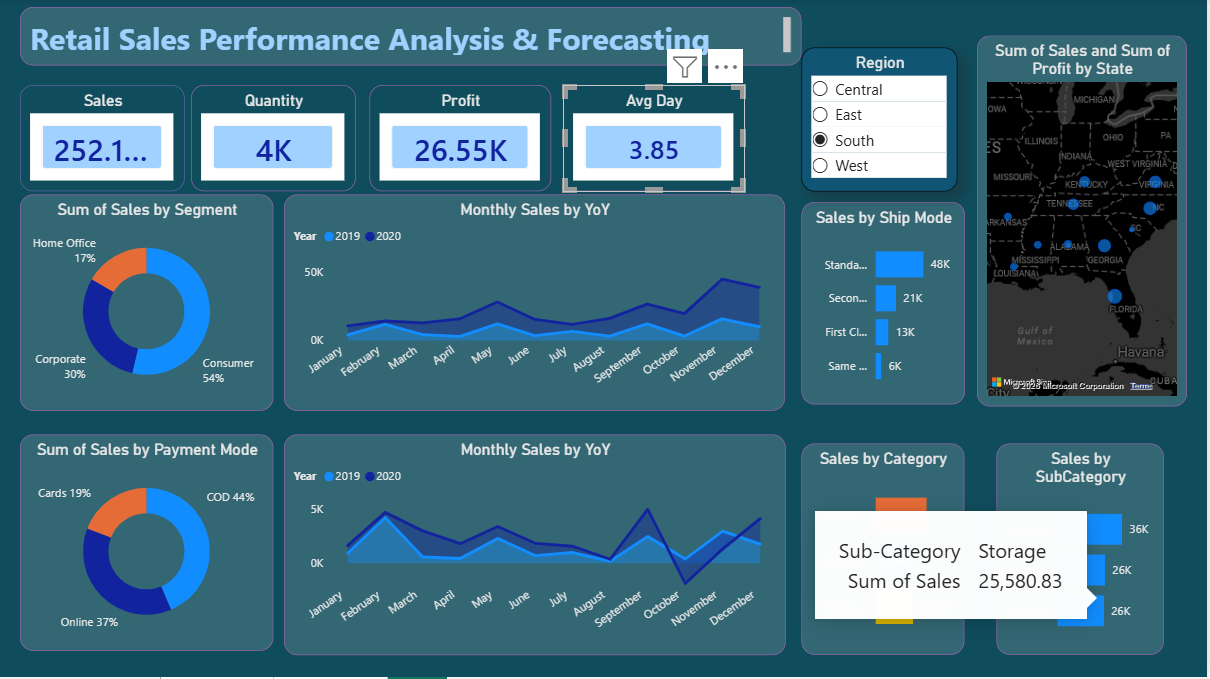

The page's visual inventory and layout, read from the dashboard file:
{"tool":"powerbi","page":{"name":"Page 1","canvas":[1280,720],"ordinal":0},"visuals":[{"type":"clusteredBarChart","title":"Sales by Category","fields":{"Category":["SuperStore_Sales_Dataset.Category"],"Y":["Sum(SuperStore_Sales_Dataset.Sales)"]},"box":[851.6,472.6,172.6,224.2],"z":0},{"type":"clusteredBarChart","title":"Sales by SubCategory","fields":{"Category":["SuperStore_Sales_Dataset.Sub-Category"],"Y":["Sum(SuperStore_Sales_Dataset.Sales)"]},"box":[1058.1,472.6,177.4,224.2],"z":1000},{"type":"clusteredBarChart","title":"Sales by Ship Mode","fields":{"Category":["SuperStore_Sales_Dataset.Ship Mode"],"Y":["Sum(SuperStore_Sales_Dataset.Sales)"]},"box":[851,216.3,173.4,214.7],"z":2000},{"type":"stackedAreaChart","title":"Monthly Sales by YoY","fields":{"Y":["Sum(SuperStore_Sales_Dataset.Sales)"],"Category":["SuperStore_Sales_Dataset.Order Date.Variation.Date Hierarchy.Month","SuperStore_Sales_Dataset.Order Date.Variation.Date Hierarchy.Day"],"Series":["SuperStore_Sales_Dataset.Order Date.Variation.Date Hierarchy.Year"]},"box":[302.2,208.4,531.3,229],"z":3000},{"type":"stackedAreaChart","title":"Monthly Sales by YoY","fields":{"Category":["SuperStore_Sales_Dataset.Order Date.Variation.Date Hierarchy.Month","SuperStore_Sales_Dataset.Order Date.Variation.Date Hierarchy.Day"],"Series":["SuperStore_Sales_Dataset.Order Date.Variation.Date Hierarchy.Year"],"Y":["Sum(SuperStore_Sales_Dataset.Profit)"]},"box":[301.6,462.9,532.3,233.9],"z":4000},{"type":"map","fields":{"Category":["SuperStore_Sales_Dataset.State"],"Size":["Sum(SuperStore_Sales_Dataset.Sales)"]},"box":[1037.1,40.3,222.6,393.5],"z":5000},{"type":"donutChart","fields":{"Category":["SuperStore_Sales_Dataset.Segment"],"Y":["Sum(SuperStore_Sales_Dataset.Sales)"]},"box":[22.3,208.4,268.8,229],"z":6000},{"type":"donutChart","fields":{"Category":["SuperStore_Sales_Dataset.Payment Mode"],"Y":["Sum(SuperStore_Sales_Dataset.Sales)"]},"box":[22.3,462.9,268.8,229],"z":7000},{"type":"listSlicer","fields":{"Values":["SuperStore_Sales_Dataset.Region"]},"box":[851,52.5,165.4,152.7],"z":8000},{"type":"textbox","box":[22.3,9.5,828.7,62],"z":9000},{"type":"cardVisual","title":"Sales","fields":{"Data":["Sum(SuperStore_Sales_Dataset.Sales)"]},"box":[22.3,92.3,175,112.9],"z":10000},{"type":"cardVisual","title":"Quantity","fields":{"Data":["Sum(SuperStore_Sales_Dataset.Quantity)"]},"box":[203.6,92.3,175,112.9],"z":11000},{"type":"cardVisual","title":"Profit","fields":{"Data":["Sum(SuperStore_Sales_Dataset.Profit)"]},"box":[392.9,92.3,192.5,112.9],"z":12000},{"type":"cardVisual","title":"Avg Day","fields":{"Data":["Avg(SuperStore_Sales_Dataset.AvgDelivery)"]},"box":[598.1,92.3,192.5,112.9],"z":13000}]}

Visuals, with their boxes in screenshot pixels (x1, y1, x2, y2), scaled from the page's 1280x720 canvas onto the 1210x679 screenshot:
"Sales by Category" clusteredBarChart: {"left": 805, "top": 446, "right": 968, "bottom": 657}
"Sales by SubCategory" clusteredBarChart: {"left": 1000, "top": 446, "right": 1168, "bottom": 657}
"Sales by Ship Mode" clusteredBarChart: {"left": 804, "top": 204, "right": 968, "bottom": 406}
"Monthly Sales by YoY" stackedAreaChart: {"left": 286, "top": 197, "right": 788, "bottom": 412}
"Monthly Sales by YoY" stackedAreaChart: {"left": 285, "top": 437, "right": 788, "bottom": 657}
map - SuperStore_Sales_Dataset.State x Sum(SuperStore_Sales_Dataset.Sales): {"left": 980, "top": 38, "right": 1191, "bottom": 409}
donutChart - SuperStore_Sales_Dataset.Segment x Sum(SuperStore_Sales_Dataset.Sales): {"left": 21, "top": 197, "right": 275, "bottom": 412}
donutChart - SuperStore_Sales_Dataset.Payment Mode x Sum(SuperStore_Sales_Dataset.Sales): {"left": 21, "top": 437, "right": 275, "bottom": 653}
listSlicer - SuperStore_Sales_Dataset.Region: {"left": 804, "top": 50, "right": 961, "bottom": 194}
textbox: {"left": 21, "top": 9, "right": 804, "bottom": 67}
"Sales" cardVisual: {"left": 21, "top": 87, "right": 187, "bottom": 194}
"Quantity" cardVisual: {"left": 192, "top": 87, "right": 358, "bottom": 194}
"Profit" cardVisual: {"left": 371, "top": 87, "right": 553, "bottom": 194}
"Avg Day" cardVisual: {"left": 565, "top": 87, "right": 747, "bottom": 194}
